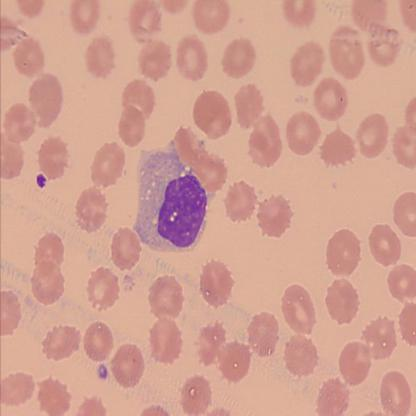Monocyte: (132, 138, 216, 254)
